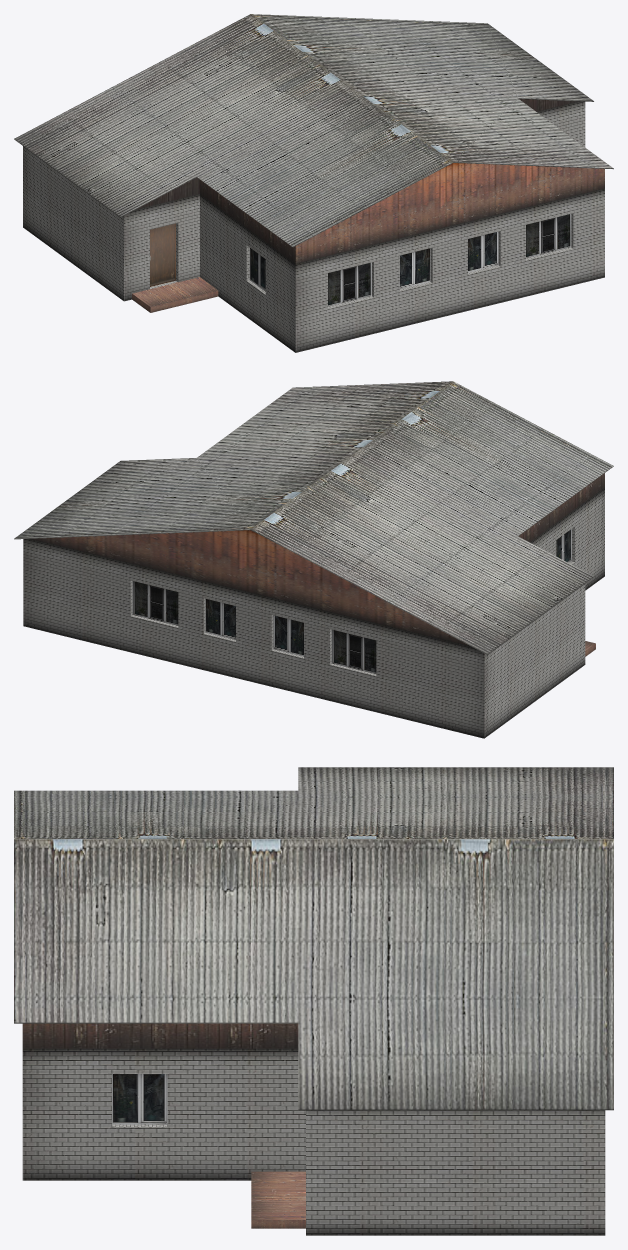
File: r402_zavorohino_dom.FBX
The picture shows the model from 3 angles, top to bottom: view 1: azimuth 30°, elevation 25°; view 2: azimuth 150°, elevation 25°; view 3: azimuth 270°, elevation 25°; orthographic projection. The views are drawn at different scales.
Visible parts, largest first — view 1: r402_zavorohino_dom; view 2: r402_zavorohino_dom; view 3: r402_zavorohino_dom.
Part boxes in pixels (x1=…): r402_zavorohino_dom: x1=14, y1=14, x2=613, y2=352; r402_zavorohino_dom: x1=14, y1=381, x2=613, y2=738; r402_zavorohino_dom: x1=14, y1=767, x2=613, y2=1235.
Bounding box in the file's own units: 1669 × 1236 × 522.
